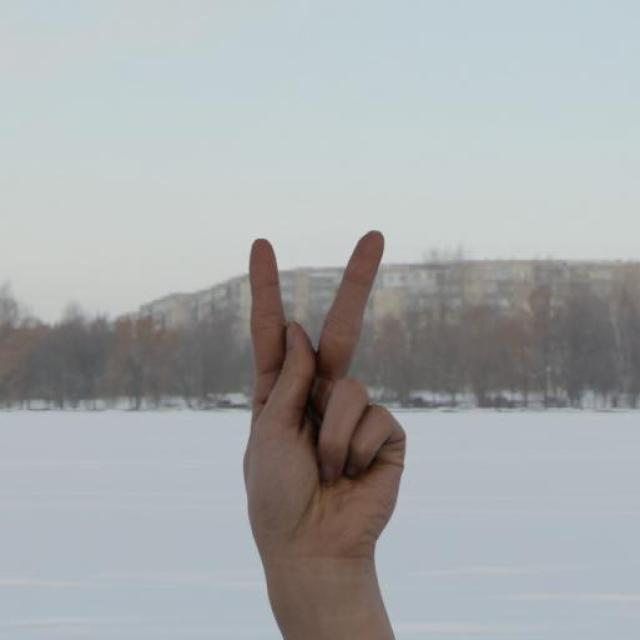K: (238, 227, 409, 564)
